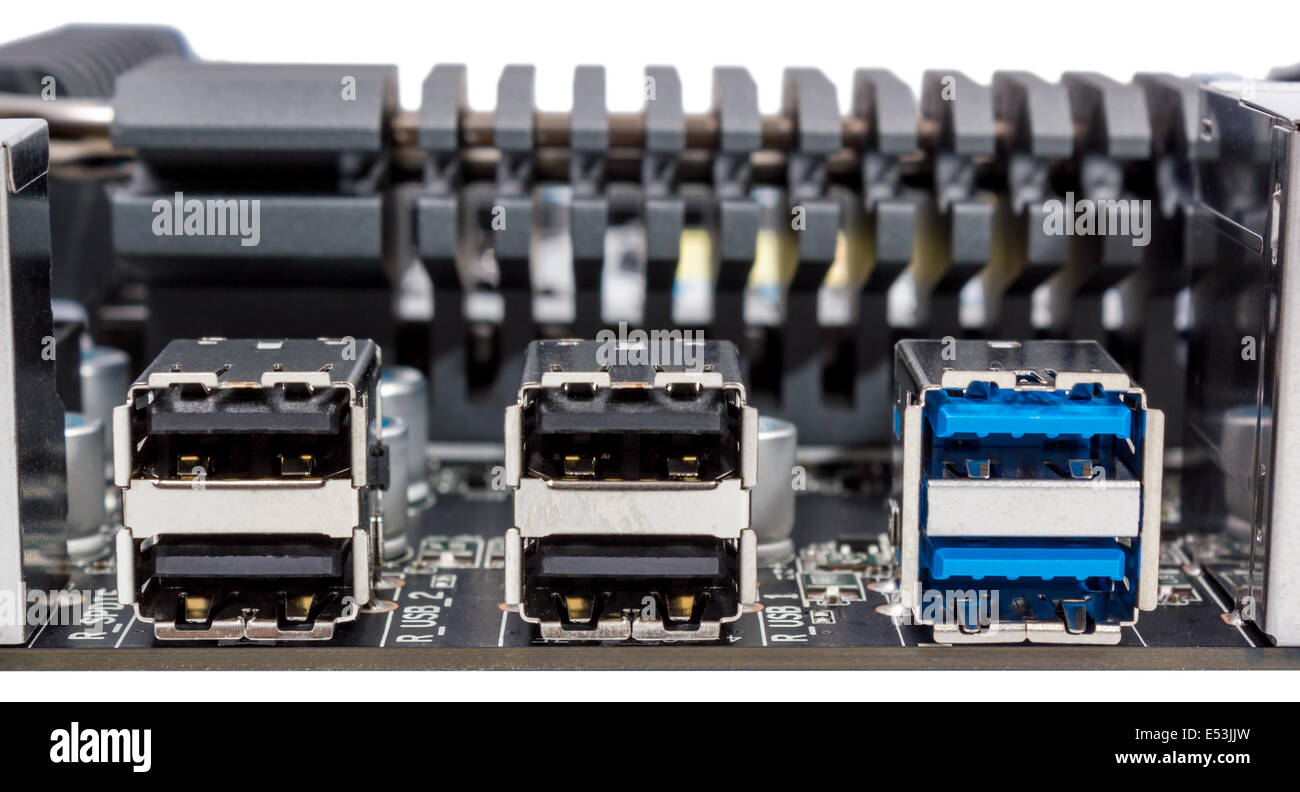USB: (518, 380, 750, 504), (507, 526, 756, 641), (918, 381, 1147, 499), (123, 526, 373, 631), (123, 378, 368, 483), (920, 526, 1141, 639)
